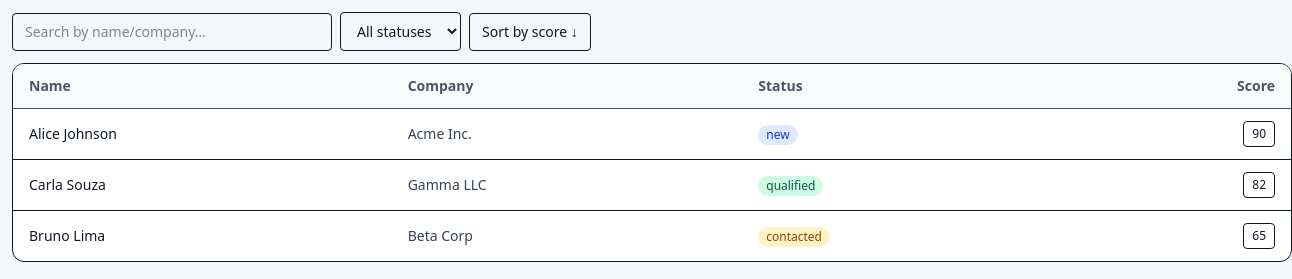
Test: <LeadList /> › filters by search (name/company)
The width and height of the screenshot is (1292, 279).
Type "acme" into the field with placeholder "Search by name/company…" at (172,32), box [12,12,332,50]
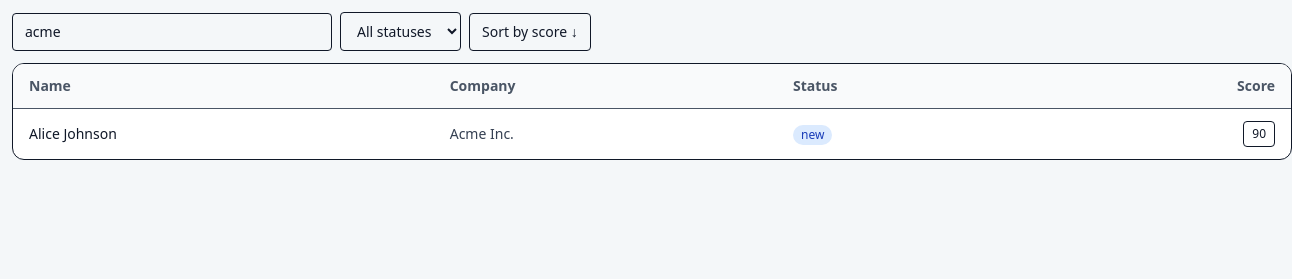
expect the text "Alice Johnson" is shown: met, box [13,108,434,159]
expect the text "Bruno Lima" is gone: met
expect the text "Carla Souza" is gone: met
